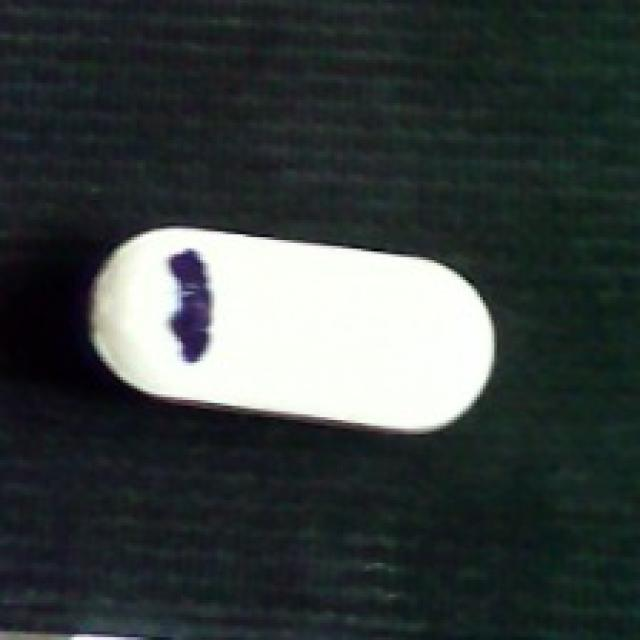defected: (80, 226, 503, 437)
